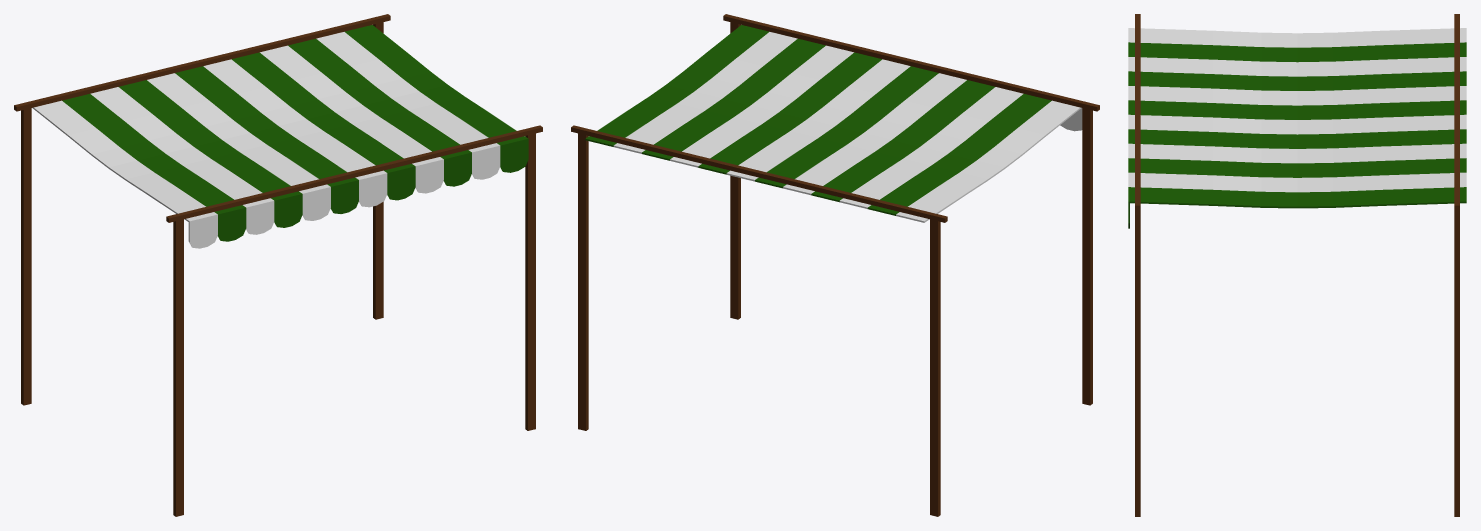
Rendered from sunblind.fbx.
3 renders of one model, left to right at view 1: azimuth 30°, elevation 25°; view 2: azimuth 150°, elevation 25°; view 3: azimuth 270°, elevation 25°, orthographic. The views are drawn at different scales.
Visible parts, largest first — view 1: sunblind; view 2: sunblind; view 3: sunblind.
Part boxes in pixels (left/top/right/bottom): sunblind: left=14, top=14, right=542, bottom=516; sunblind: left=571, top=14, right=1099, bottom=516; sunblind: left=1128, top=14, right=1466, bottom=516.
Bounding box in the file's own units: 1.34 × 1.03 × 1.
